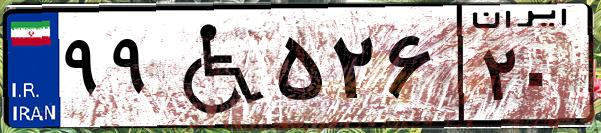0: (525, 38, 570, 115)
2: (330, 28, 385, 110), (475, 38, 525, 113)
5: (270, 28, 330, 110)
6: (385, 28, 445, 110)
9: (57, 26, 110, 100), (110, 28, 158, 98)
ژ (معلولین و جانبازان): (158, 12, 270, 120)
